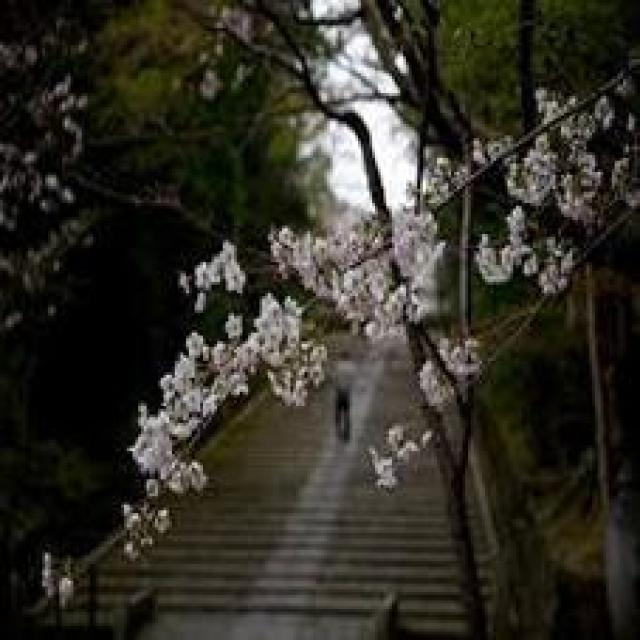upstair: (145, 441, 446, 613)
